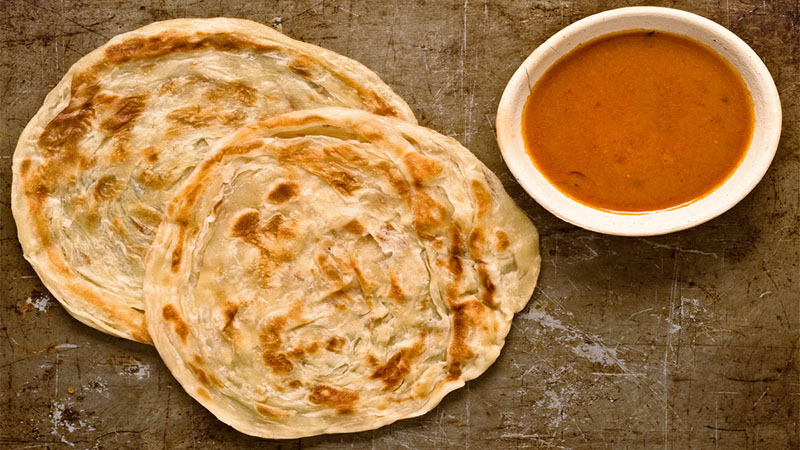Prata: (135, 94, 544, 439), (8, 15, 427, 345)
